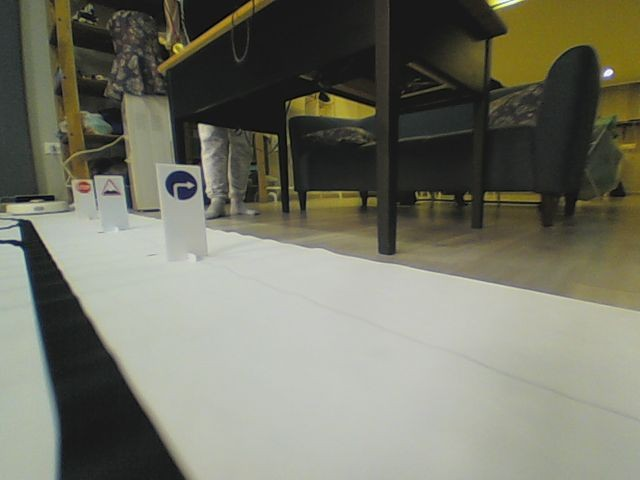Nerov: (100, 177, 120, 197)
Right: (164, 169, 198, 201)
